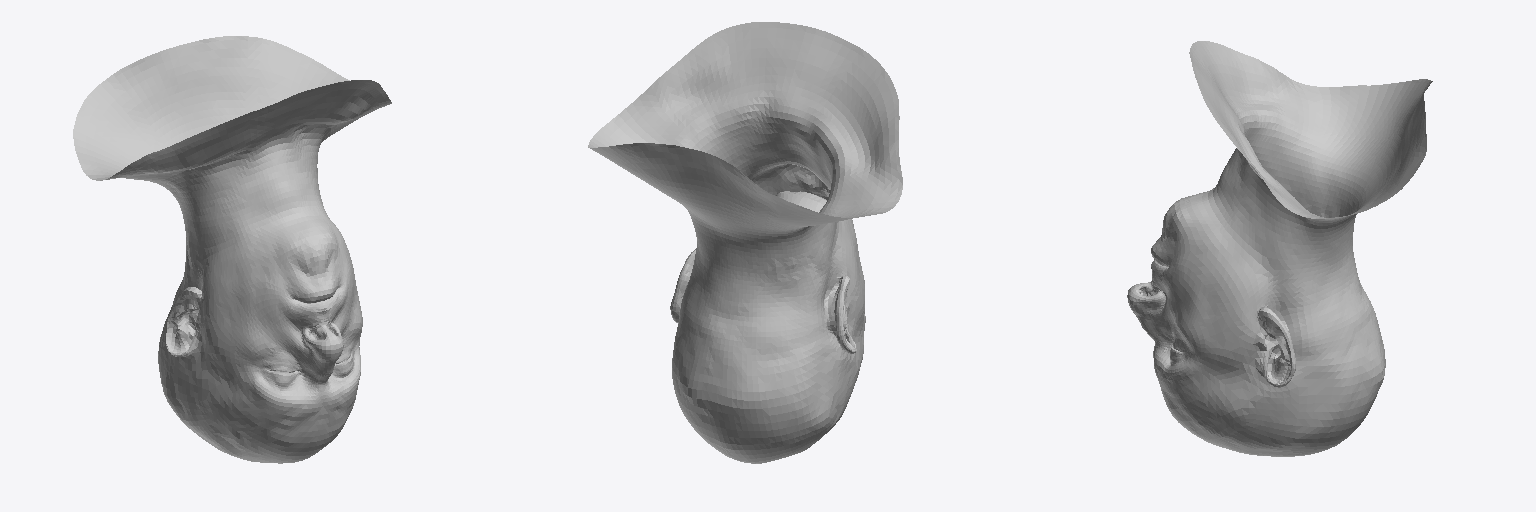
File: headscan_smooth.obj
The picture shows the model from 3 angles: view 1: azimuth 30°, elevation 25°; view 2: azimuth 150°, elevation 25°; view 3: azimuth 270°, elevation 25°; orthographic projection.
Visible parts, largest first — view 1: Head; view 2: Head; view 3: Head.
Boxes of the visible parts, x1,y1,x2,y2 form: Head: [73, 36, 391, 463]; Head: [588, 22, 902, 463]; Head: [1127, 41, 1432, 456].
Size of the model in its own units: 1.52 by 1.95 by 1.38.